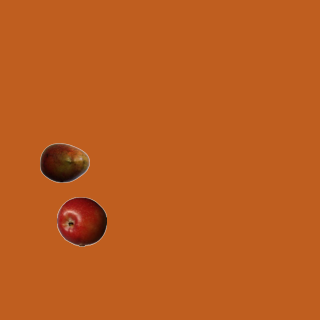Apple Braeburn: (56, 196, 106, 246)
Mango Red: (39, 137, 89, 187)
